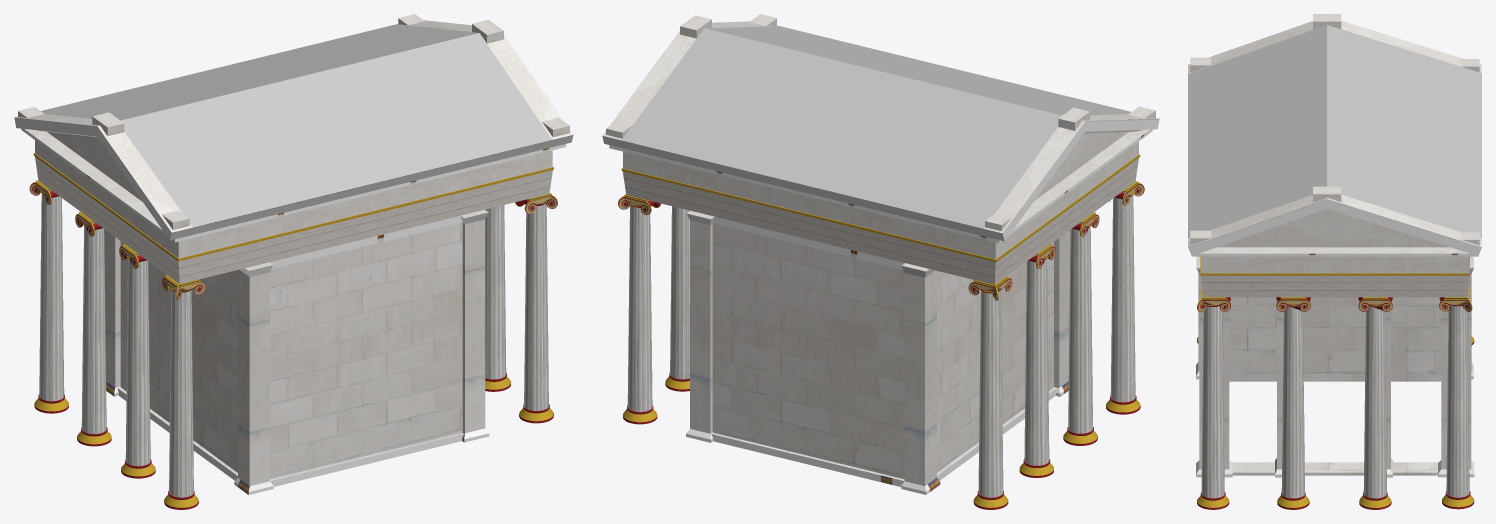
Rendered from nike.fbx.
The picture shows the model from 3 angles, left to right: view 1: azimuth 30°, elevation 25°; view 2: azimuth 150°, elevation 25°; view 3: azimuth 270°, elevation 25°; orthographic projection. The views are drawn at different scales.
Visible parts, largest first — view 1: Model; view 2: Model; view 3: Model.
Part boxes in pixels (left/top/right/bottom): Model: left=14, top=14, right=573, bottom=509; Model: left=602, top=14, right=1159, bottom=509; Model: left=1188, top=14, right=1481, bottom=509.
Size of the model in its own units: 8052 by 6528 by 5463.
